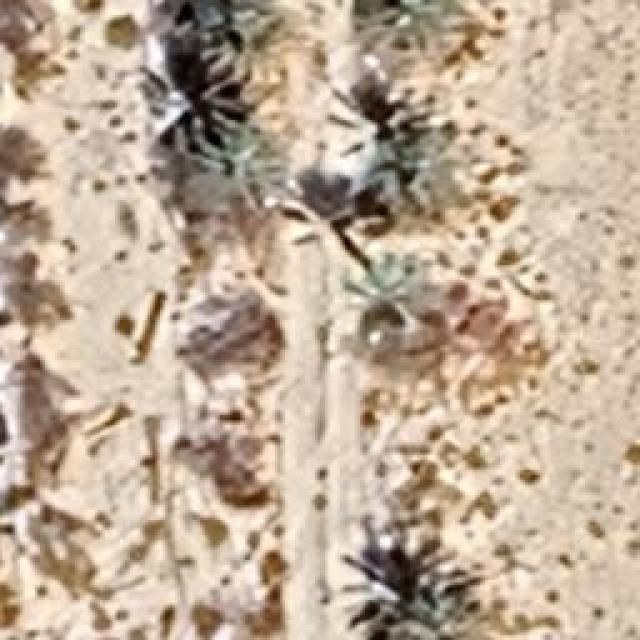PalmTree: (370, 111, 455, 211), (162, 1, 266, 79), (145, 75, 245, 155), (361, 248, 439, 344), (364, 0, 446, 80), (188, 130, 262, 210), (378, 571, 486, 624)
